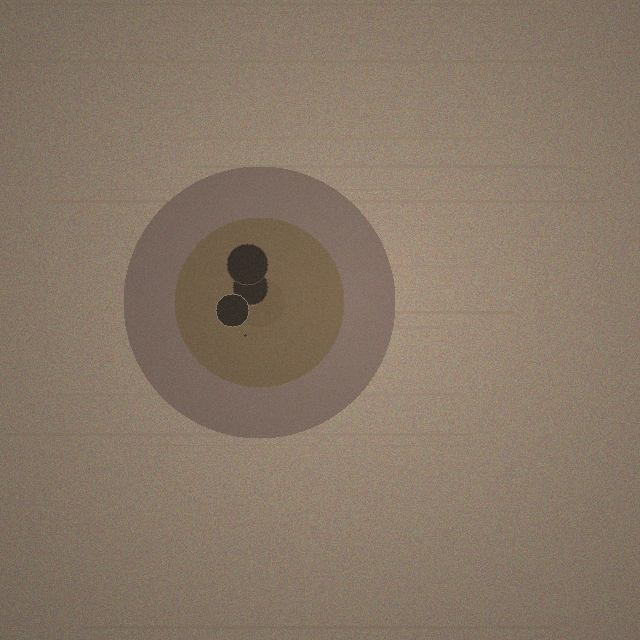shrinkage: (123, 166, 395, 438)
